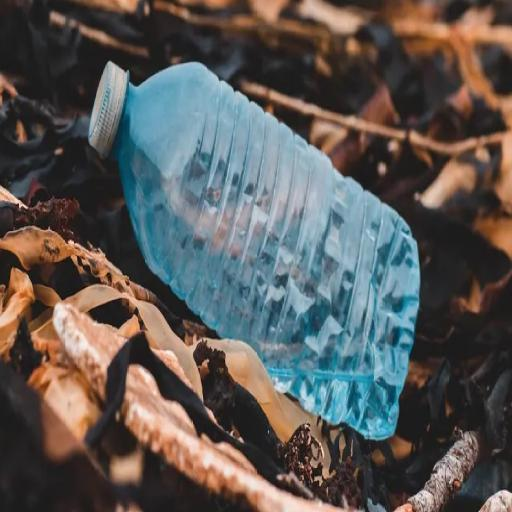bottles: (90, 64, 419, 439)
